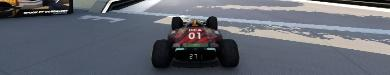Car: (150, 15, 239, 68)
obstacles-Borders: (0, 0, 73, 17)
